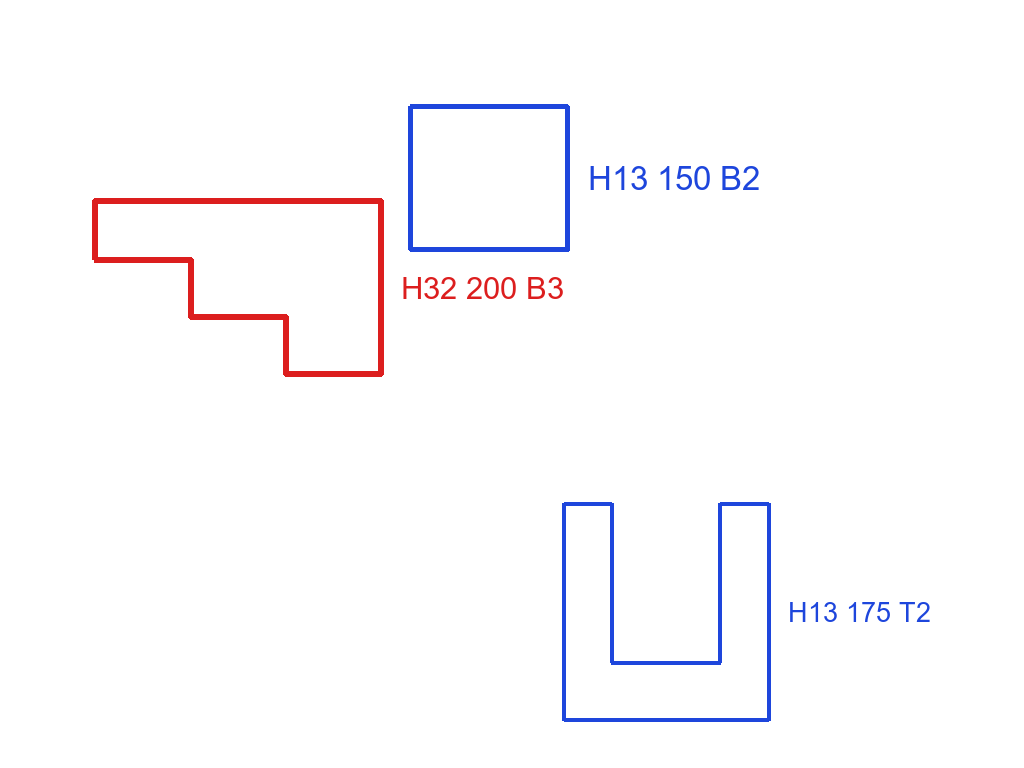shape: (90, 197, 386, 379), (560, 500, 772, 725), (406, 102, 572, 254)
text: (586, 164, 762, 192), (399, 275, 566, 301), (786, 600, 933, 624)
